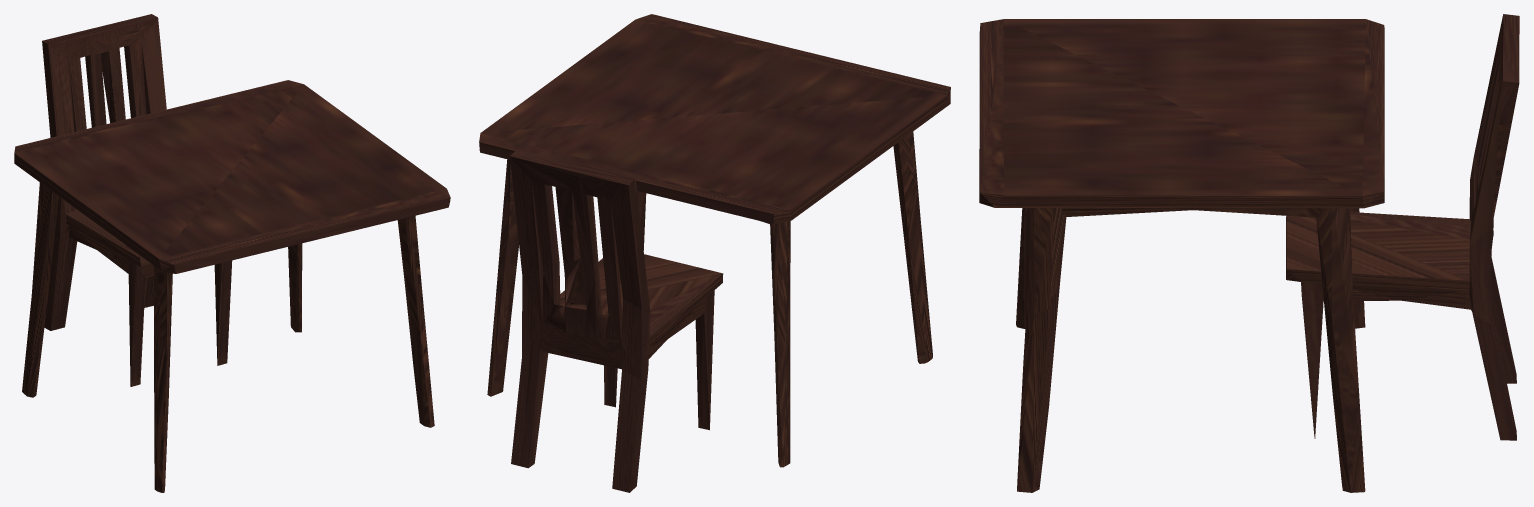
The model's file is Table_SmallChair_Wooden.fbx.
3 views of the same model, side by side, from view 1: azimuth 30°, elevation 25°; view 2: azimuth 150°, elevation 25°; view 3: azimuth 270°, elevation 25° (orthographic). The views are drawn at different scales.
Visible parts, largest first — view 1: Mesh_0; view 2: Mesh_0; view 3: Mesh_0.
Boxes of the visible parts, bbox=[...] form: Mesh_0: bbox=[14, 14, 450, 492]; Mesh_0: bbox=[479, 14, 950, 492]; Mesh_0: bbox=[979, 14, 1519, 492].
Size of the model in its own units: 120 by 115 by 155.
Materials: 1 (1 with a texture image).
